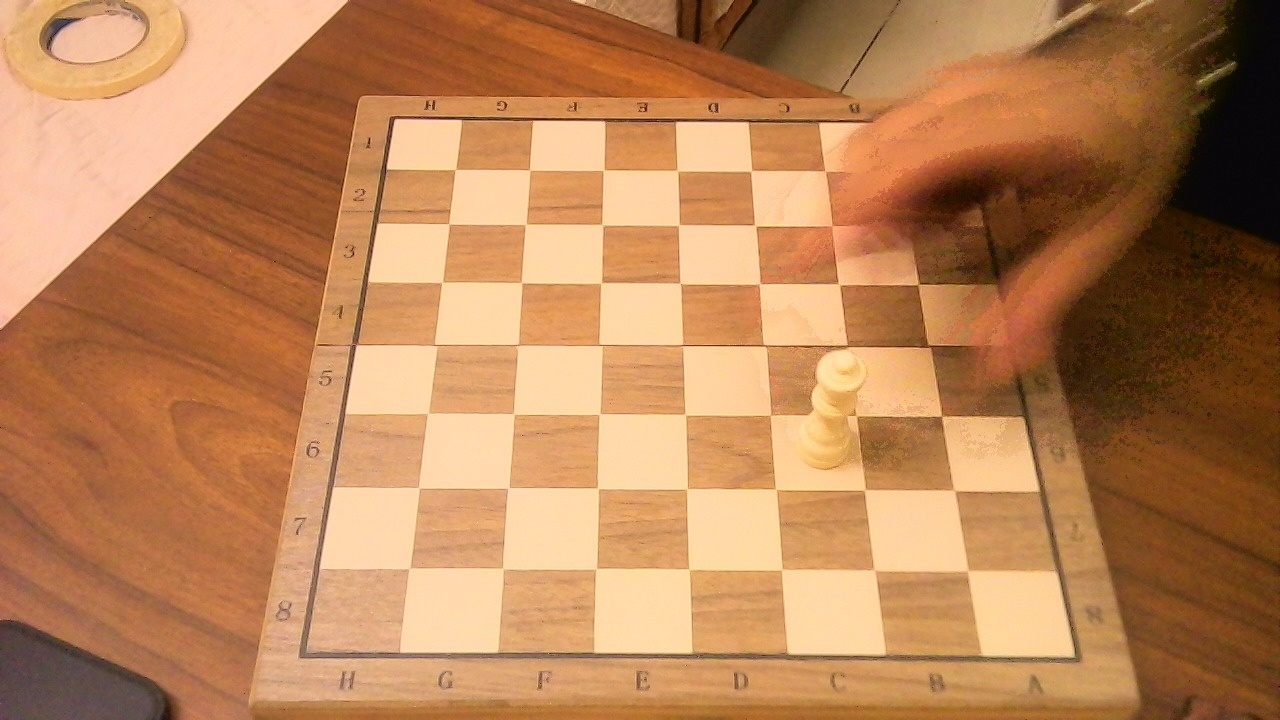Q: (791, 335, 874, 474)
